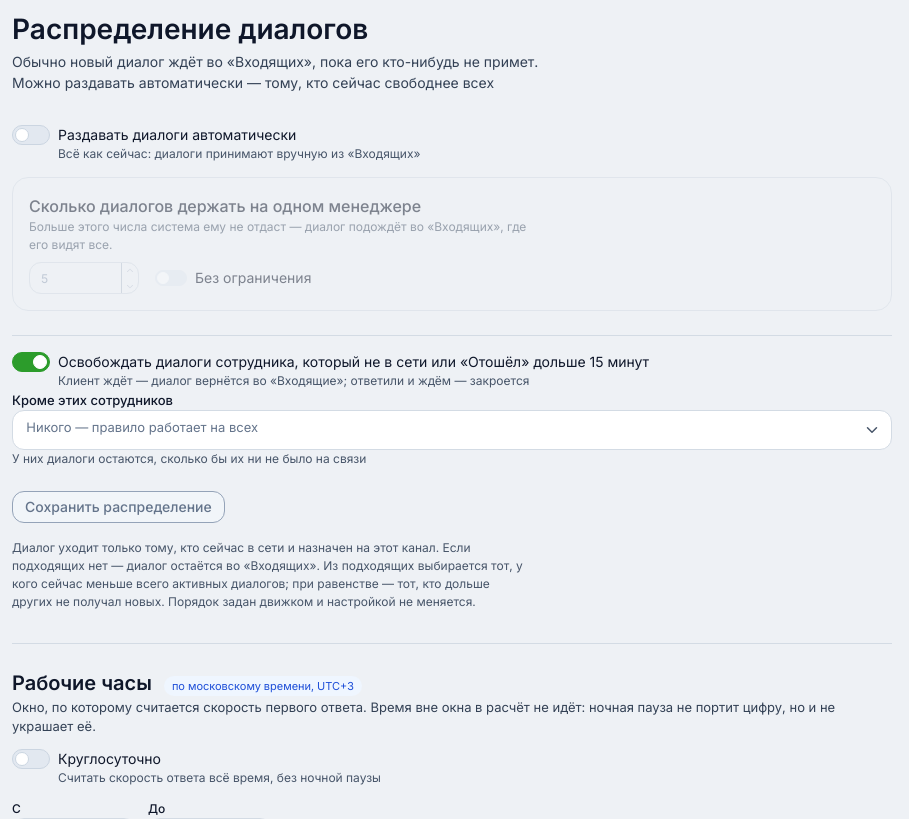
Scenario: Настройки распределения › подпись под тумблером следует за состоянием, а не врёт
This screenshot has width=909, height=819.
Click the switch labelled "Раздавать диалоги автоматически": (216, 143) 12,125 -> 420,161
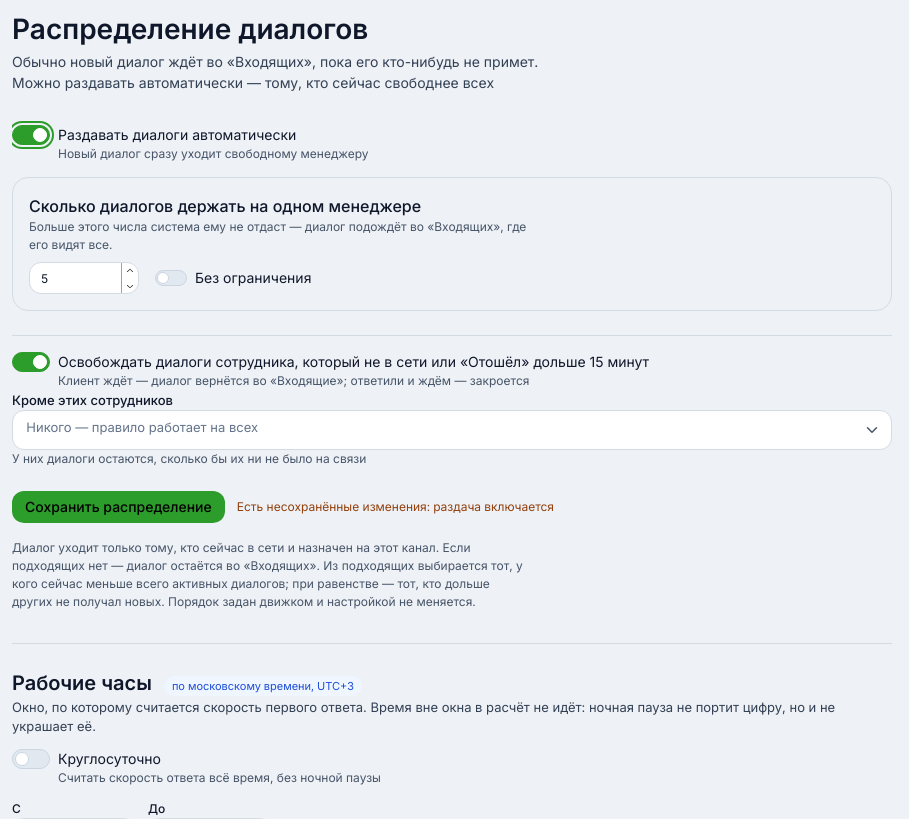
Result: the text "принимают вручную" is gone
Result: the text "Новый диалог сразу уходит свободному менеджеру" is shown at 50,147 -> 369,161
